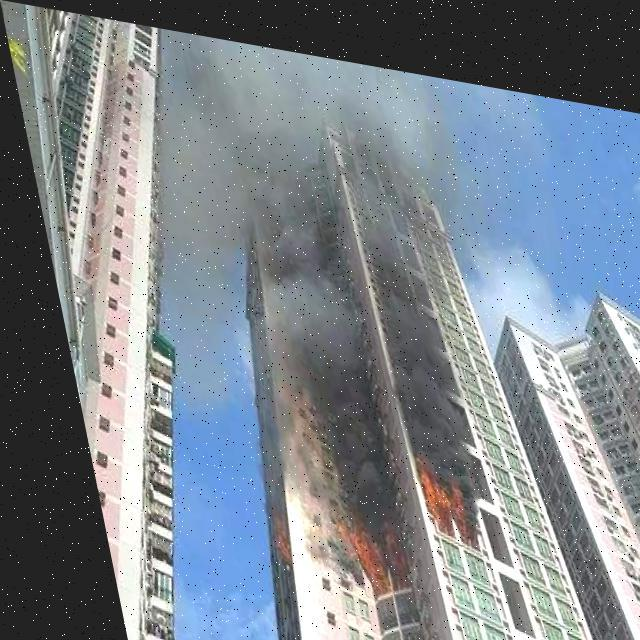Fire: (314, 498, 392, 592), (394, 437, 464, 541), (245, 498, 277, 554)
